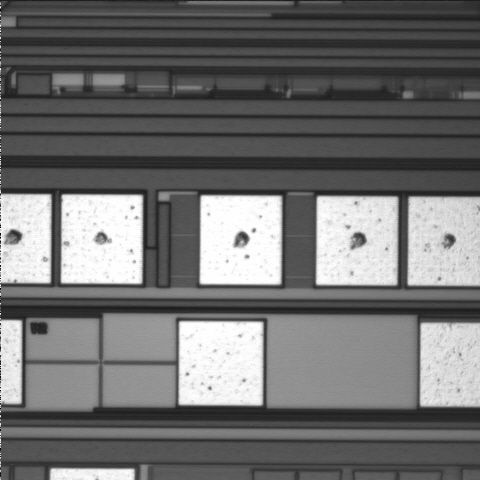pad: (200, 195, 282, 285), (61, 195, 143, 284), (316, 196, 398, 285), (179, 321, 263, 405)
